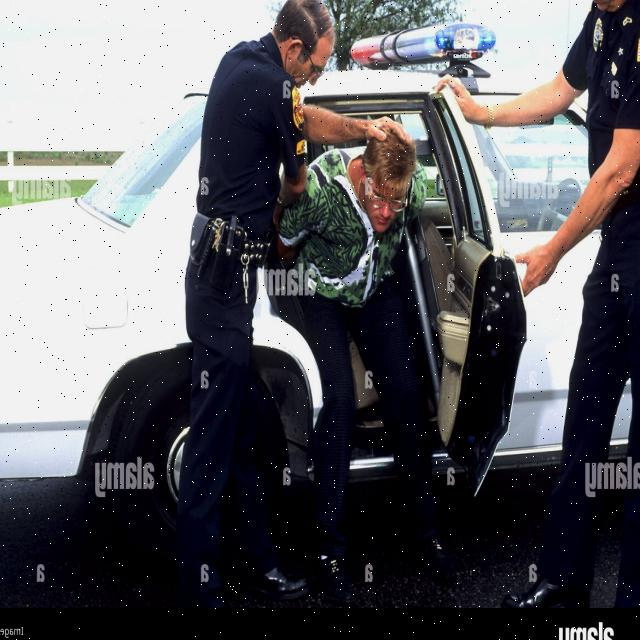police: (463, 0, 640, 620), (161, 0, 334, 605)
